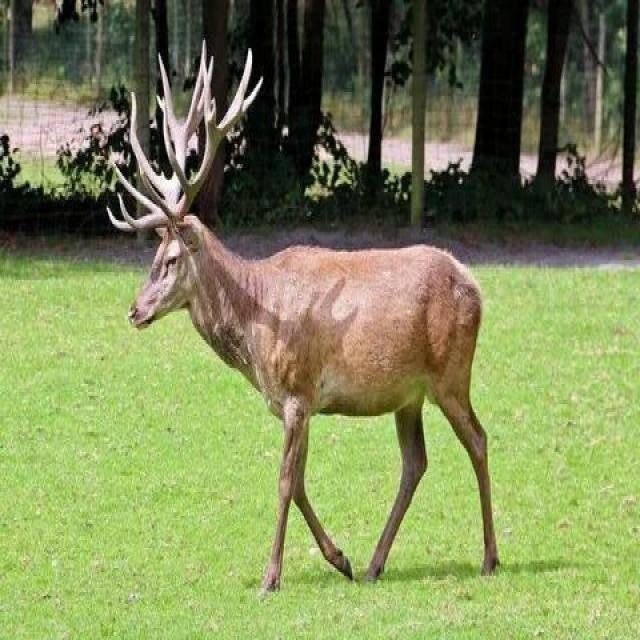deer: (114, 104, 536, 560)
